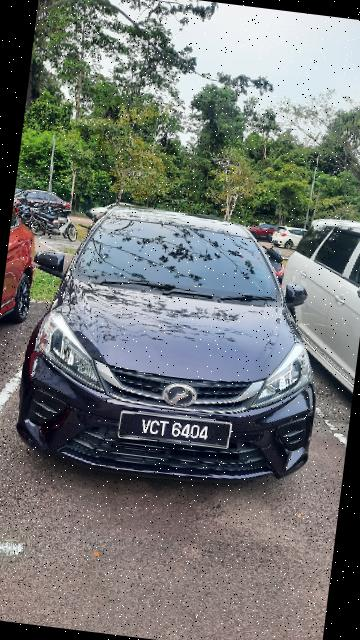License_Plate: (113, 406, 238, 452)
car: (6, 195, 347, 498), (264, 207, 360, 408)
